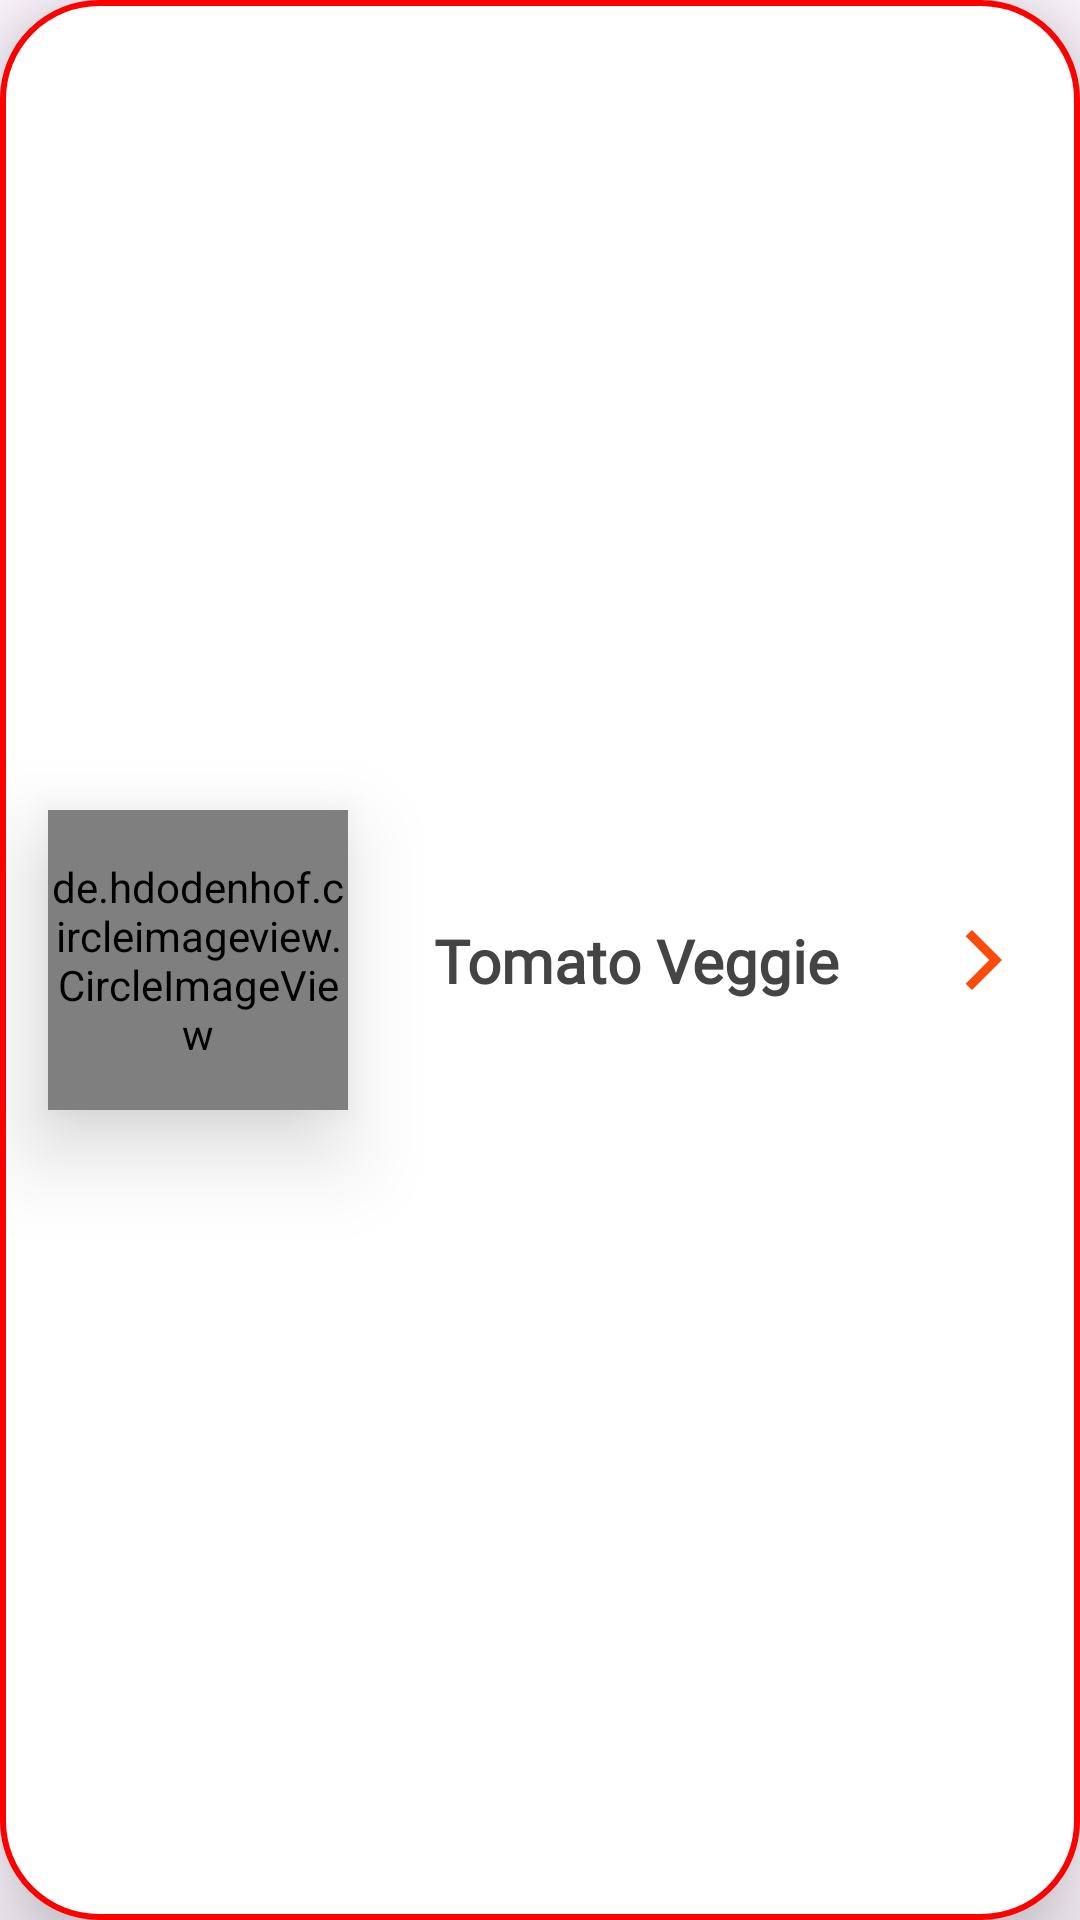

Named icons in this screenshot (1080w x 1920h) and their centers, [x,y]:
arrow forward: [983,960]
